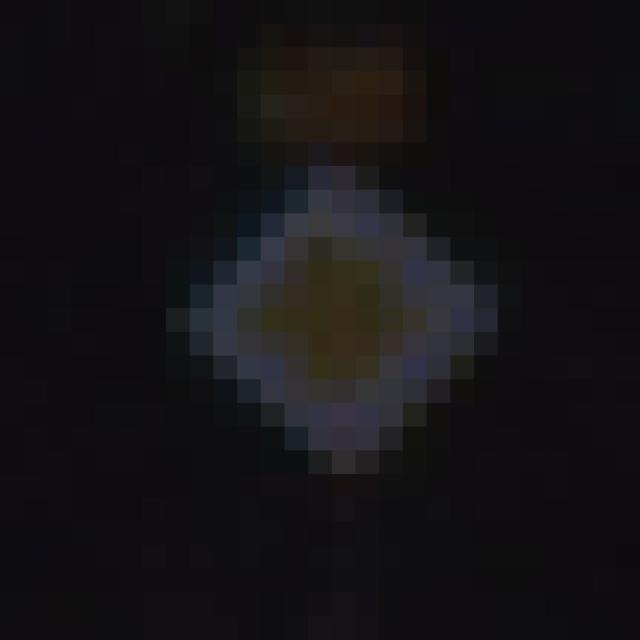Main Road: (143, 120, 523, 523)
